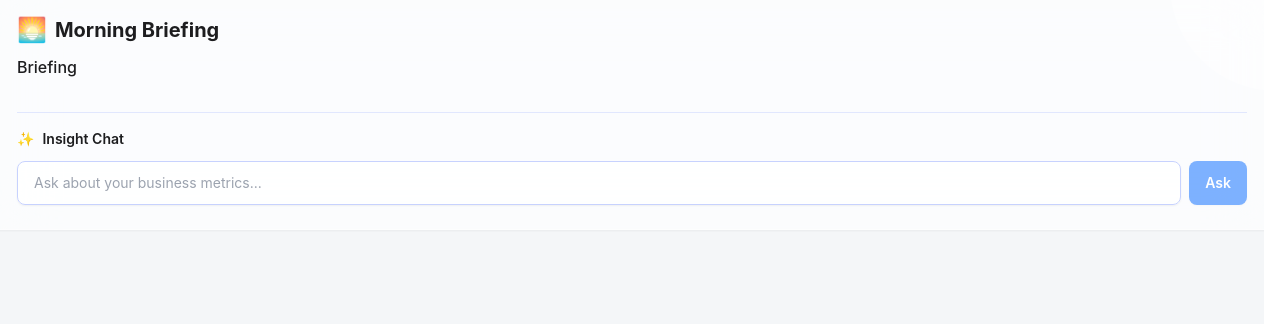
Test: MorningBriefingCard › handles insight chat failures gracefully
The width and height of the screenshot is (1264, 324).
Expected: the text "Briefing" is shown, top-left (17, 57), bottom-right (77, 77)
Type "Hello agent error" into the field with test id "insight-chat-input" at [599, 183], box top-left (17, 161), bottom-right (1181, 205)
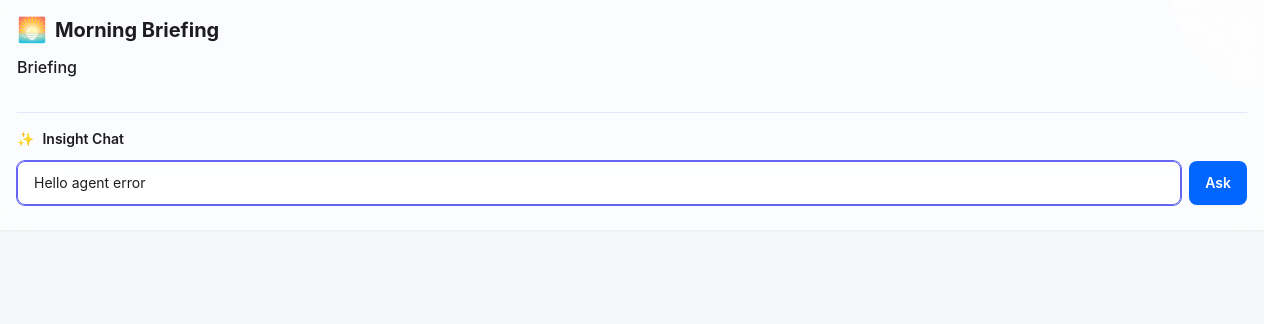
Click the button with test id "insight-chat-submit" at [1218, 183], box top-left (1189, 161), bottom-right (1247, 205)
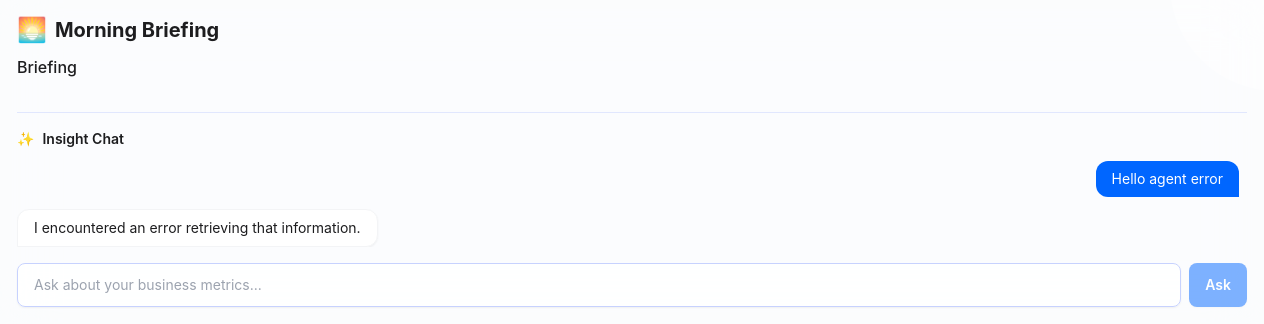
Now the text "Hello agent error" is shown, box top-left (1096, 161), bottom-right (1239, 197)
Now the text "I encountered an error retrieving that information." is shown, box top-left (17, 209), bottom-right (378, 247)
